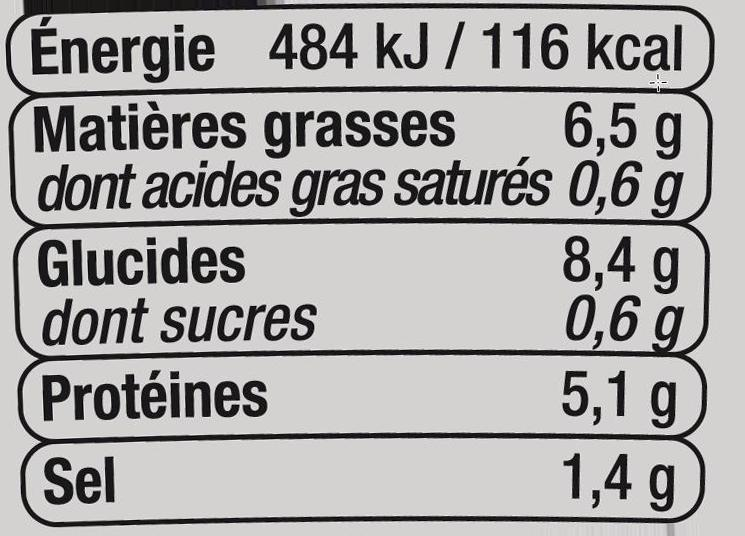column: (32, 17, 463, 505), (482, 21, 683, 512)
line: (33, 18, 678, 78), (41, 370, 679, 428), (36, 100, 683, 157), (34, 297, 683, 352), (37, 161, 685, 215), (44, 451, 679, 506), (38, 236, 679, 284)
table: (5, 9, 708, 528)
